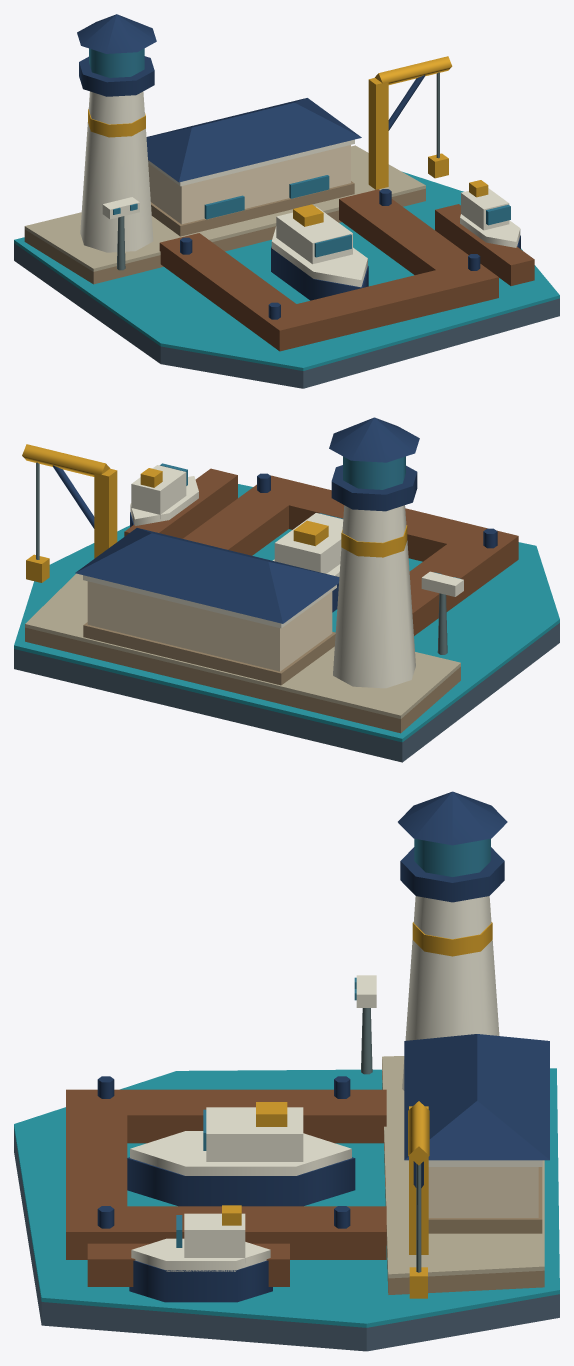
Rendered from port-lv2.glb.
3 renders of one model, top to bottom at view 1: azimuth 30°, elevation 25°; view 2: azimuth 150°, elevation 25°; view 3: azimuth 270°, elevation 25°, orthographic. The views are drawn at different scales.
Parts seen in each view (by area): view 1: pier_wood, foundation_water, foundation_slate, warehouse_roof_naval, lighthouse_white, warehouse_cream, vessel_white, quay_paving, cranes_ochre, outer_pier_wood, quay_stoneDark, warehouse_stoneDark (+11 smaller); view 2: foundation_water, pier_wood, warehouse_roof_naval, lighthouse_white, foundation_slate, warehouse_cream, quay_paving, quay_stoneDark, vessel_white, warehouse_stoneDark, cranes_ochre, lighthouse_roof_naval (+11 smaller); view 3: foundation_water, pier_wood, warehouse_roof_naval, vessel_white, foundation_slate, vessel_naval, lighthouse_white, quay_paving, warehouse_cream, lighthouse_roof_naval, outer_pier_wood, lantern_balcony_naval (+10 smaller).
Part boxes in pixels (box(x1,y1,x2,y2)): pier_wood: box(159, 189, 498, 351); foundation_water: box(14, 171, 559, 370); foundation_slate: box(14, 243, 559, 388); warehouse_roof_naval: box(146, 98, 361, 182); lighthouse_white: box(80, 91, 153, 252); warehouse_cream: box(148, 145, 350, 224); vessel_white: box(271, 188, 520, 287); quay_paving: box(24, 145, 425, 271); cranes_ochre: box(368, 56, 452, 189); outer_pier_wood: box(435, 204, 534, 285); quay_stoneDark: box(24, 188, 425, 284); warehouse_stoneDark: box(151, 181, 354, 236); foundation_water: box(14, 484, 559, 742); pier_wood: box(183, 475, 518, 635); warehouse_roof_naval: box(75, 528, 339, 623); lighthouse_white: box(333, 505, 415, 688); foundation_slate: box(14, 623, 559, 762); warehouse_cream: box(87, 581, 332, 671); quay_paving: box(25, 573, 460, 718); quay_stoneDark: box(25, 627, 460, 733); vessel_white: box(130, 465, 343, 576); warehouse_stoneDark: box(83, 622, 335, 685); cranes_ochre: box(22, 444, 117, 558); lighthouse_roof_naval: box(329, 417, 419, 462); foundation_water: box(14, 1068, 559, 1327); pier_wood: box(66, 1089, 386, 1259); warehouse_roof_naval: box(404, 1034, 549, 1160); vessel_white: box(130, 1107, 351, 1271); foundation_slate: box(14, 1129, 559, 1351); vessel_naval: box(127, 1157, 355, 1302); lighthouse_white: box(402, 896, 499, 1090); quay_paving: box(382, 1056, 544, 1278); warehouse_cream: box(428, 1167, 538, 1217); lighthouse_roof_naval: box(398, 791, 507, 845); outer_pier_wood: box(87, 1243, 289, 1286); lantern_balcony_naval: box(400, 847, 504, 902).
Bounding box in the file's own units: 1 × 0.632 × 0.9036.
